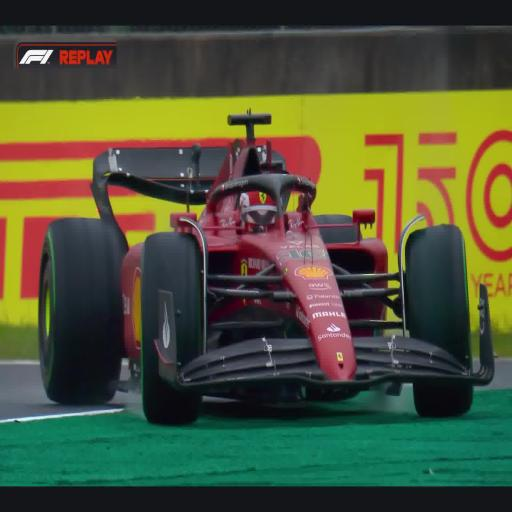f1_car: (38, 111, 494, 423)
